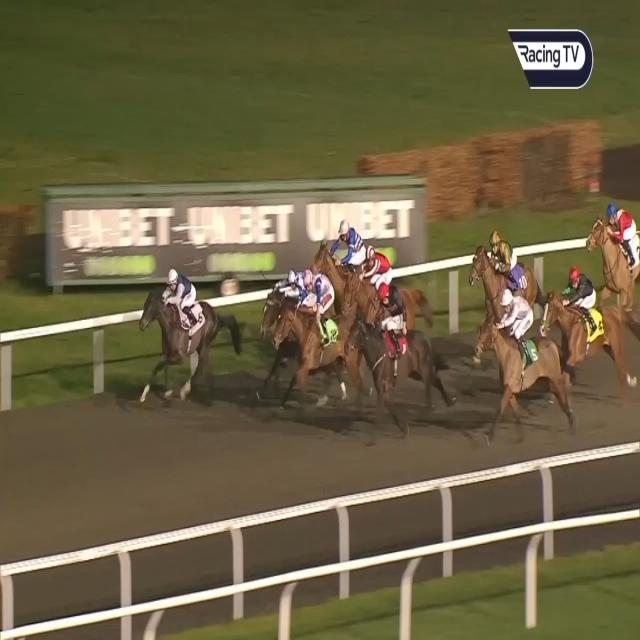horses-racing: (135, 266, 241, 392), (476, 287, 568, 430), (347, 283, 435, 425), (545, 267, 631, 385), (278, 258, 341, 412), (475, 227, 544, 323), (586, 202, 640, 319), (346, 238, 414, 328), (309, 219, 374, 302), (256, 262, 305, 336)
